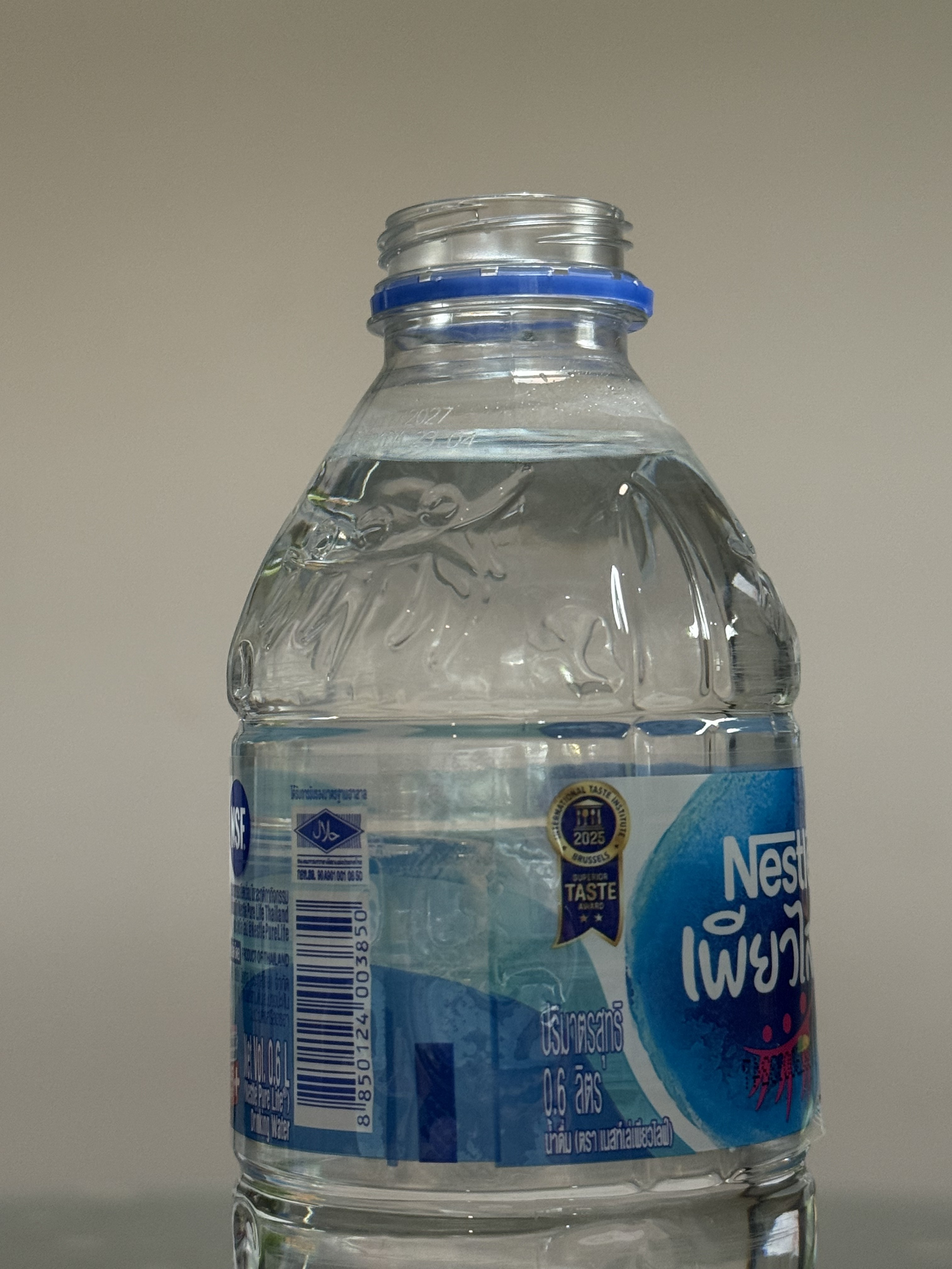no_cap: (365, 185, 659, 320)
